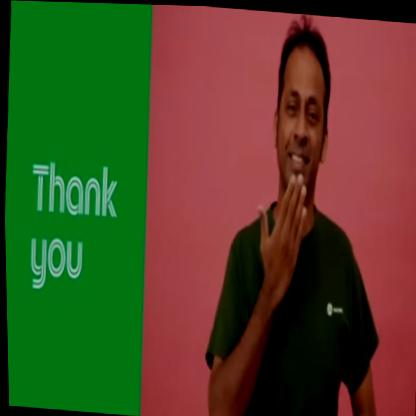ThankYou: (197, 5, 397, 416)
